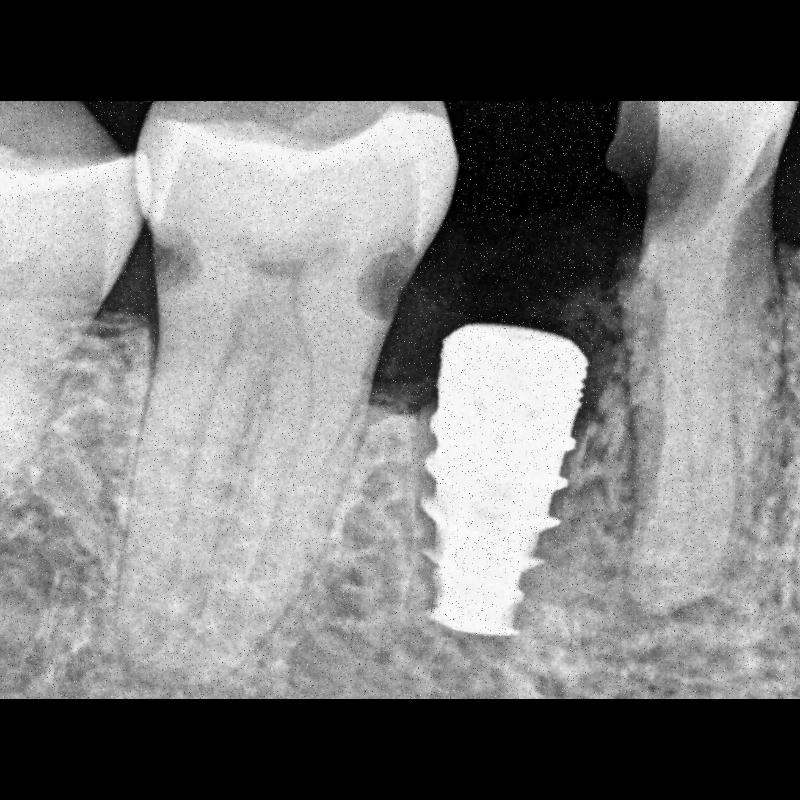NORIS: (412, 313, 590, 643)
